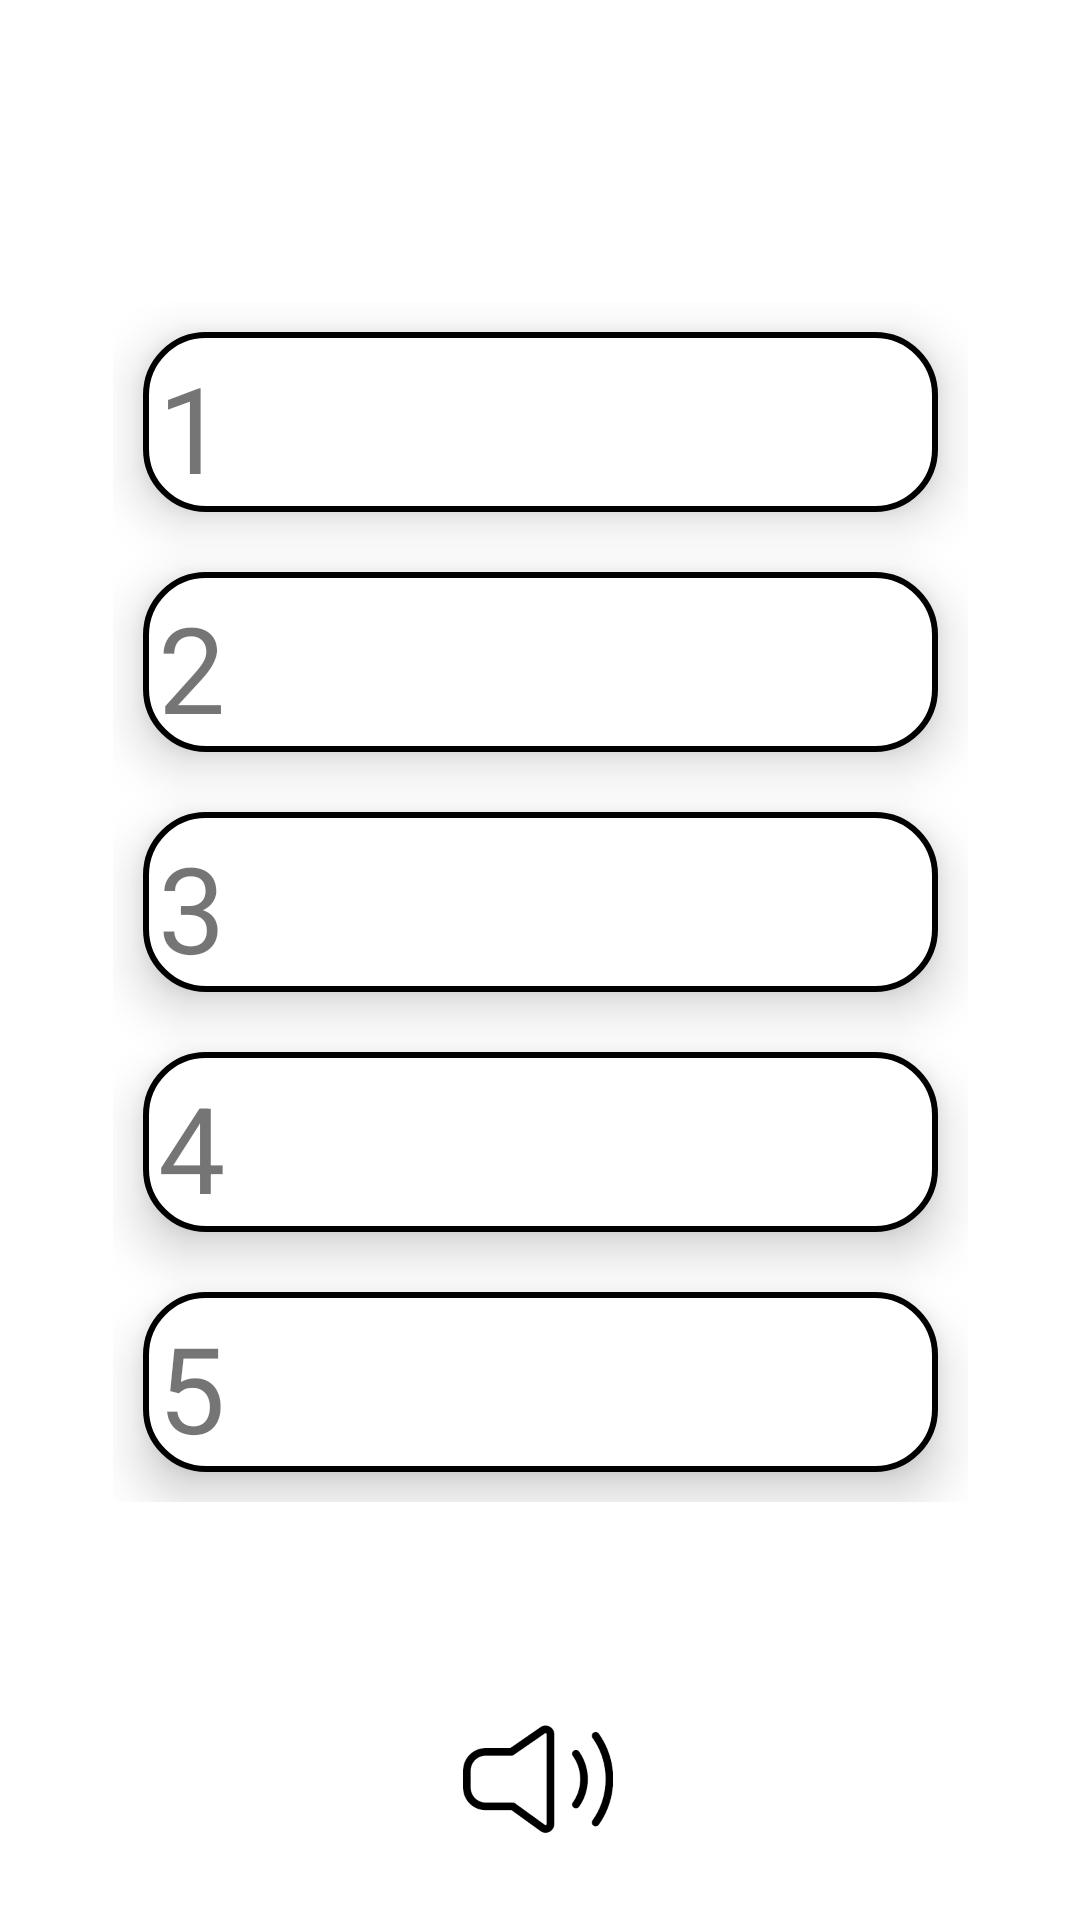

Icons on this 1080px×1920px Android screen, each with the point to tap as (x=x, y=y):
speaker: (x=538, y=1779)
